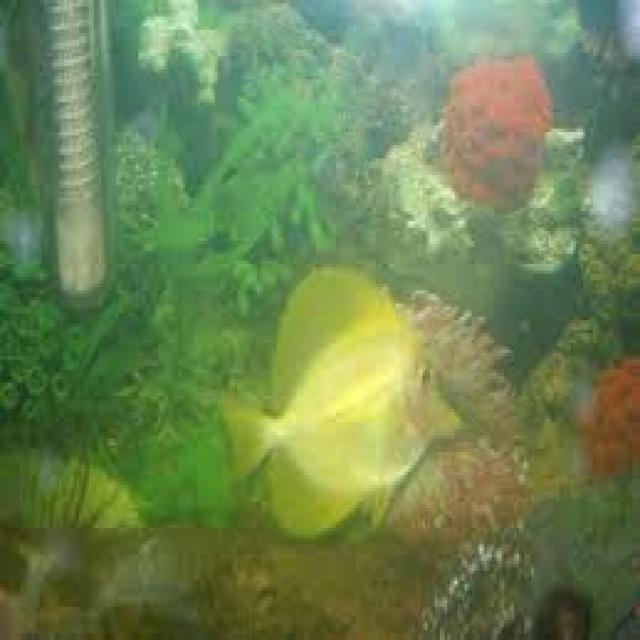YellowTang: (213, 259, 468, 552)
